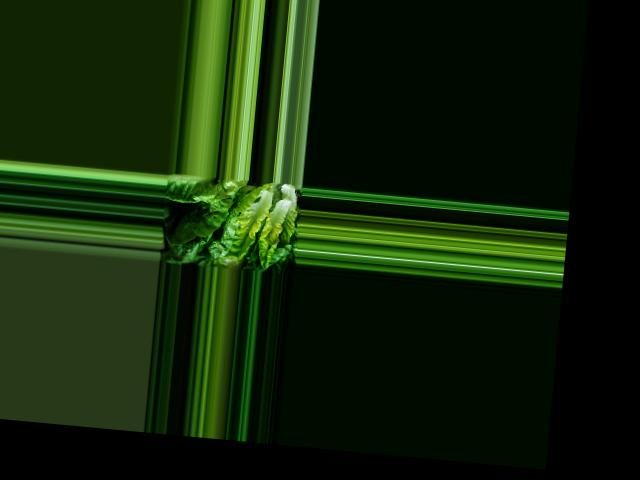lettuce: (206, 176, 300, 268)
